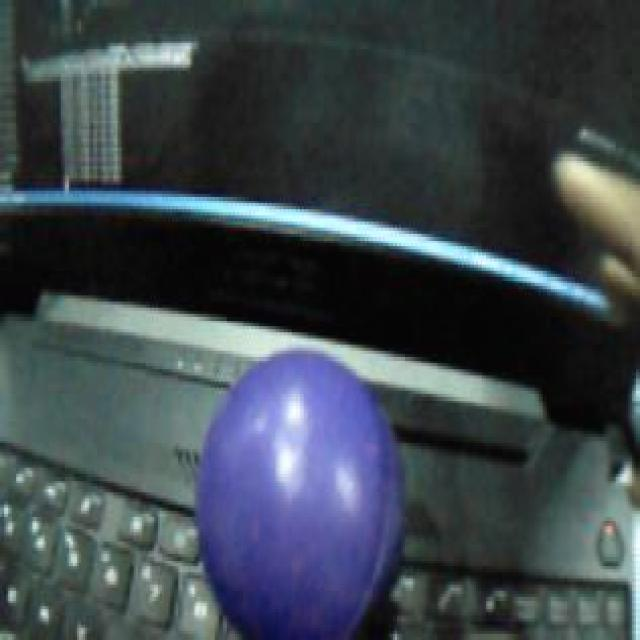BallPurple: (197, 346, 406, 640)
